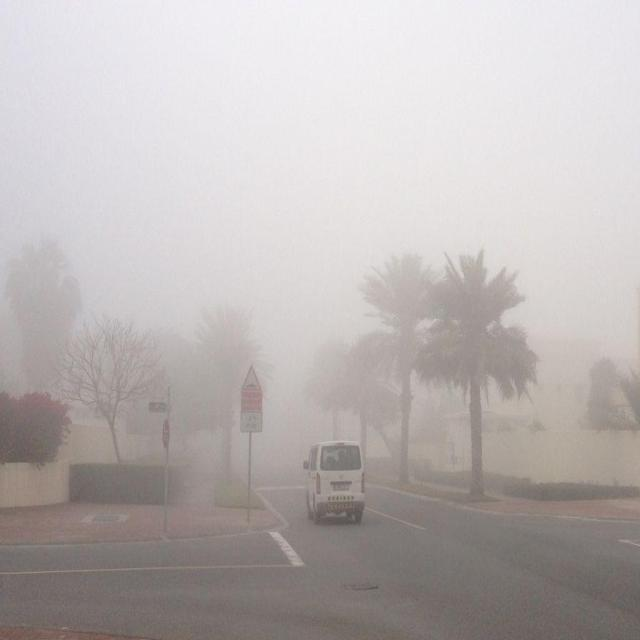Van: (295, 438, 372, 530)
